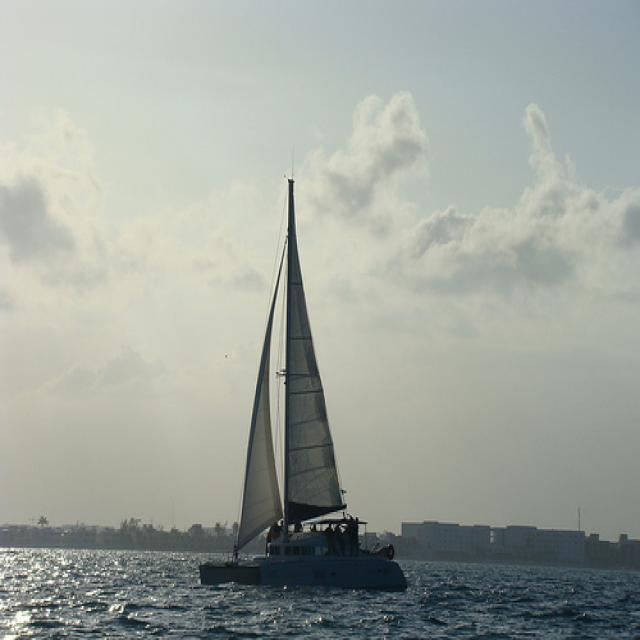Ship: (196, 172, 414, 587)
